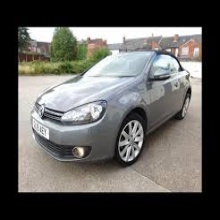no damage: (31, 50, 192, 164)
